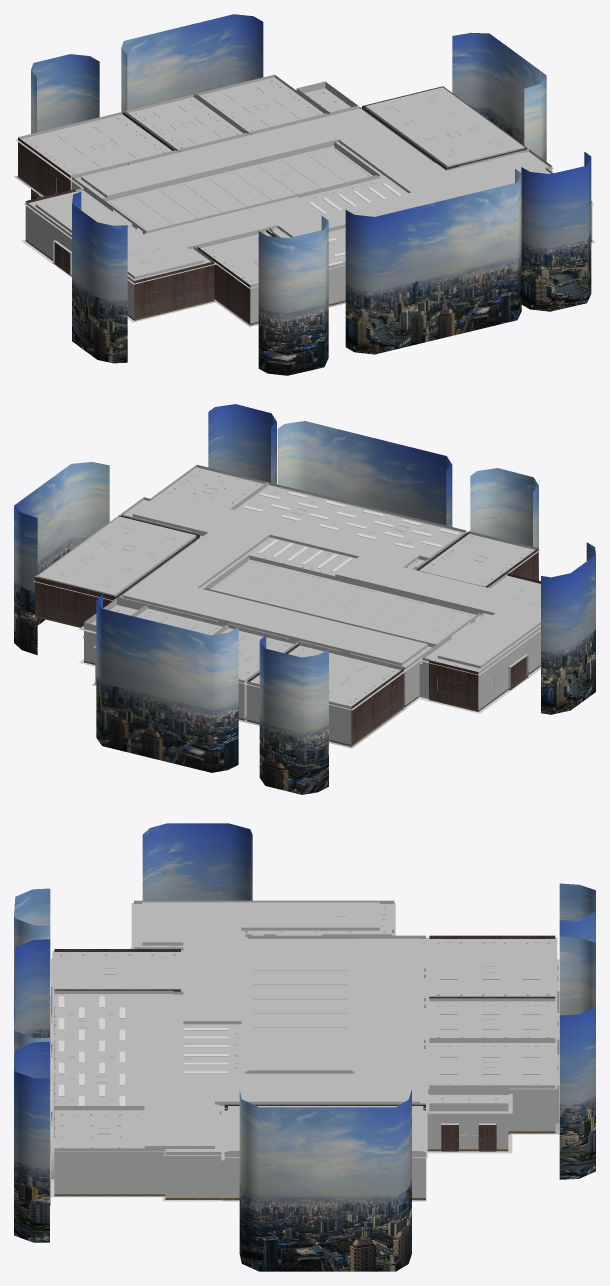
Rendered from 3Dgj_hggs_CJ_YH.FBX.
3 views of the same model, one above another, from view 1: azimuth 30°, elevation 25°; view 2: azimuth 150°, elevation 25°; view 3: azimuth 270°, elevation 25° (orthographic). The views are drawn at different scales.
Parts seen in each view (by area): view 1: 3Dgj_hggs_CJ08, 3Dgj_hggs_CJ10, 3Dgj_hggs_CJ00, 3Dgj_hggs_CJ13, 3Dgj_hggs_CJ11, 3Dgj_hggs_CJ07, 3Dgj_hggs_CJ12; view 2: 3Dgj_hggs_CJ08, 3Dgj_hggs_CJ10, 3Dgj_hggs_CJ00, 3Dgj_hggs_CJ13, 3Dgj_hggs_CJ11, 3Dgj_hggs_CJ07, 3Dgj_hggs_CJ12; view 3: 3Dgj_hggs_CJ10, 3Dgj_hggs_CJ08, 3Dgj_hggs_CJ00, 3Dgj_hggs_CJ13, 3Dgj_hggs_CJ07, 3Dgj_hggs_CJ11, 3Dgj_hggs_CJ02, 3Dgj_hggs_CJ12, 3Dgj_hggs_CJ16.
Part boxes in pixels (<box>): 3Dgj_hggs_CJ08: <box>31,14,591,375</box>; 3Dgj_hggs_CJ10: <box>18,74,593,323</box>; 3Dgj_hggs_CJ00: <box>15,77,553,284</box>; 3Dgj_hggs_CJ13: <box>18,86,527,323</box>; 3Dgj_hggs_CJ11: <box>75,131,459,232</box>; 3Dgj_hggs_CJ07: <box>308,183,401,265</box>; 3Dgj_hggs_CJ12: <box>18,176,592,325</box>; 3Dgj_hggs_CJ08: <box>14,404,595,794</box>; 3Dgj_hggs_CJ10: <box>34,465,540,744</box>; 3Dgj_hggs_CJ00: <box>79,491,540,710</box>; 3Dgj_hggs_CJ13: <box>35,515,540,744</box>; 3Dgj_hggs_CJ11: <box>83,482,480,698</box>; 3Dgj_hggs_CJ07: <box>243,491,459,571</box>; 3Dgj_hggs_CJ12: <box>35,615,540,746</box>; 3Dgj_hggs_CJ10: <box>51,900,559,1197</box>; 3Dgj_hggs_CJ08: <box>14,823,595,1271</box>; 3Dgj_hggs_CJ00: <box>131,903,557,1155</box>; 3Dgj_hggs_CJ13: <box>54,935,555,1151</box>; 3Dgj_hggs_CJ07: <box>58,996,228,1105</box>; 3Dgj_hggs_CJ11: <box>54,929,509,1199</box>; 3Dgj_hggs_CJ02: <box>50,947,512,1201</box>; 3Dgj_hggs_CJ12: <box>54,1131,555,1199</box>; 3Dgj_hggs_CJ16: <box>69,914,540,1150</box>.
Bounding box in the file's own units: 46.13 × 12.44 × 39.92.
